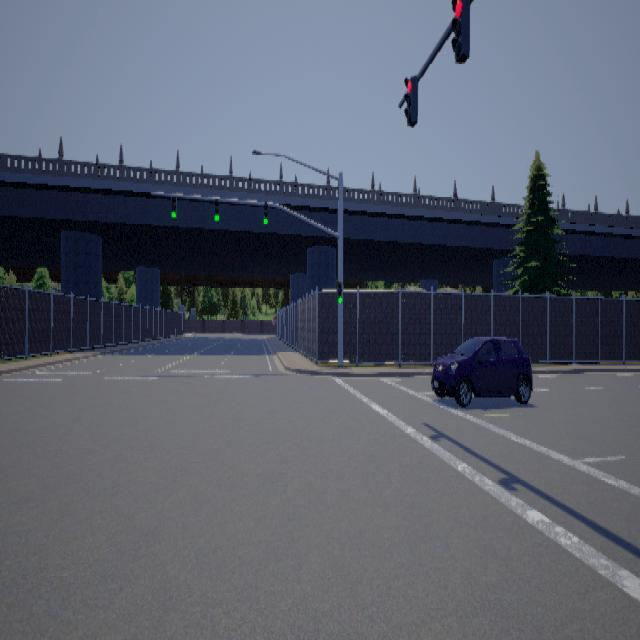green_light: (170, 194, 176, 219), (336, 282, 342, 304), (262, 200, 267, 226), (213, 197, 218, 222)
red_light: (450, 0, 469, 62), (403, 74, 417, 126)
vehicle: (430, 335, 532, 406)
